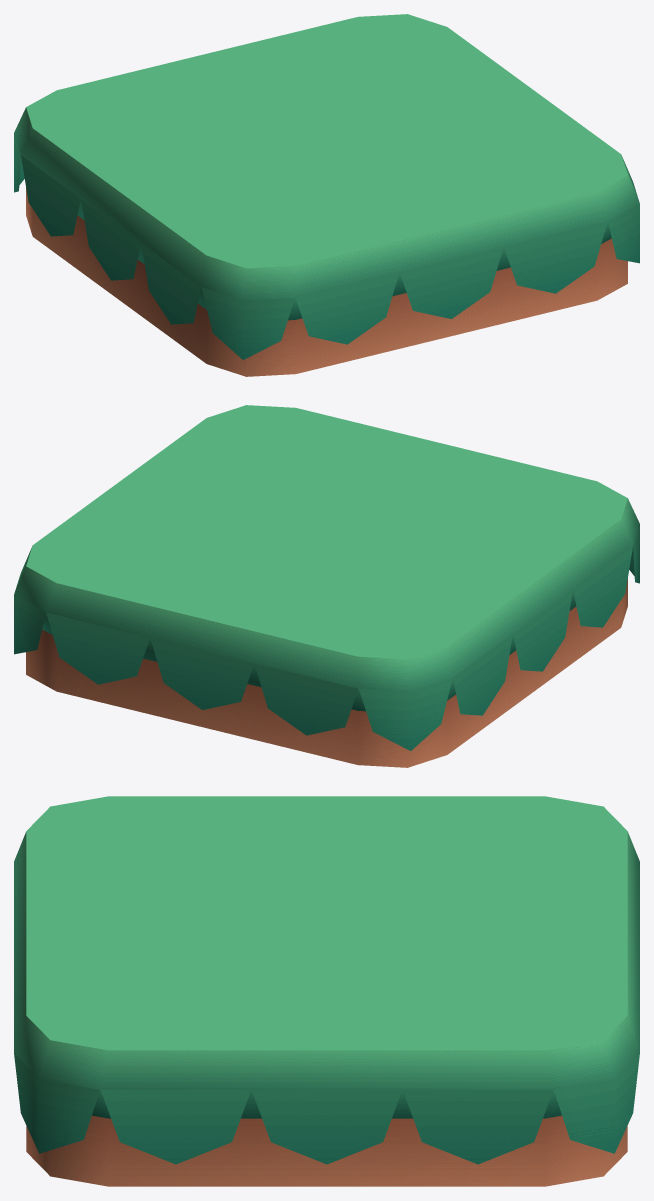
File: block-grass-overhang-low-large.glb
3 renders of one model, top to bottom at view 1: azimuth 30°, elevation 25°; view 2: azimuth 150°, elevation 25°; view 3: azimuth 270°, elevation 25°, orthographic. The views are drawn at different scales.
Visible parts, largest first — view 1: block-grass-overhang-low-large; view 2: block-grass-overhang-low-large; view 3: block-grass-overhang-low-large.
Part boxes in pixels (x1,y1,x2,y2): block-grass-overhang-low-large: (14, 14, 639, 376); block-grass-overhang-low-large: (14, 405, 639, 767); block-grass-overhang-low-large: (14, 796, 639, 1186).
Size of the model in its own units: 2.08 by 0.5 by 2.08.
Materials: 1 (1 with a texture image).
